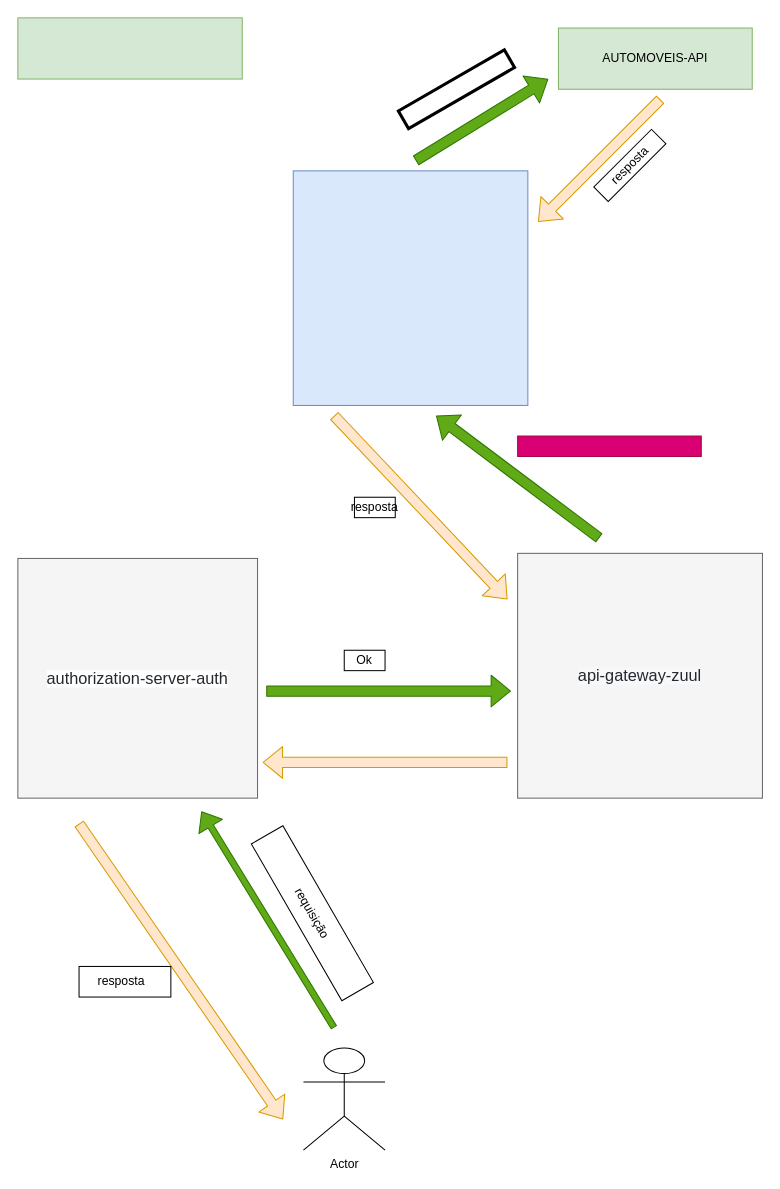
Some shapes in this 780 by 1189 pixel diagram are drawn without their labels. The centre of each missing label's shape, as x and y in pixels:
"BOLETOS-API" belongs at (x=129, y=48).
"buscar info api por nome ou IP" belongs at (x=609, y=445).
"eureka-service-discovery" belongs at (x=410, y=287).
"processar info" belongs at (x=456, y=88).
